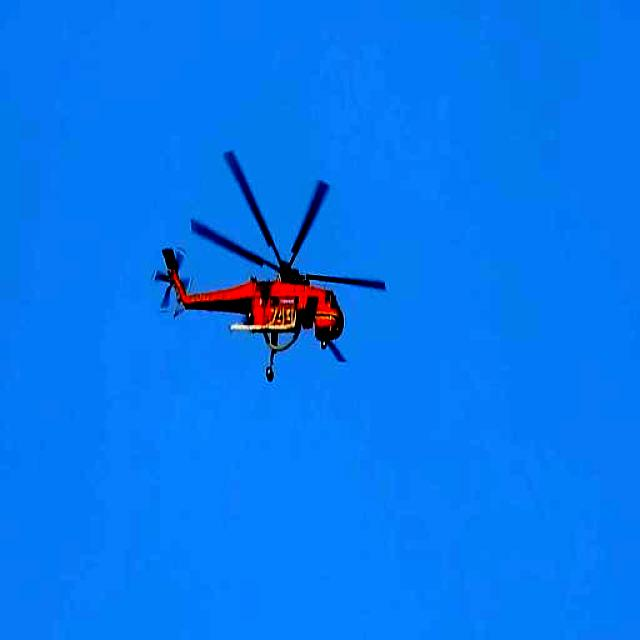drone: (154, 149, 385, 391)
